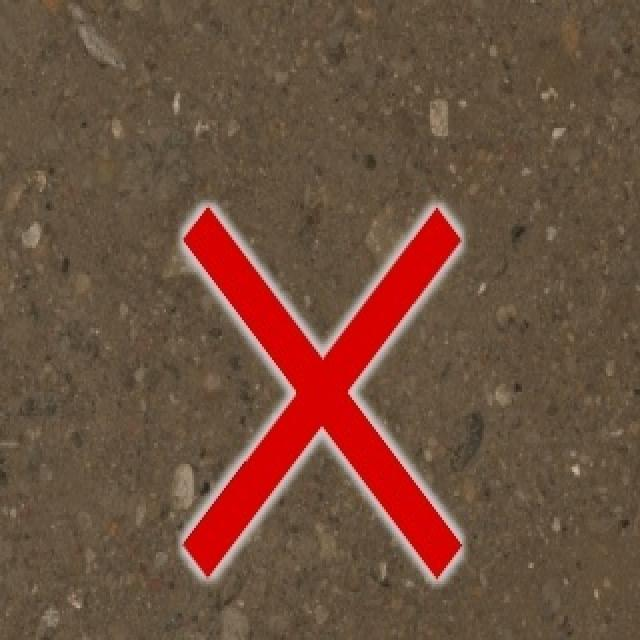x_marker: (183, 207, 459, 577)
